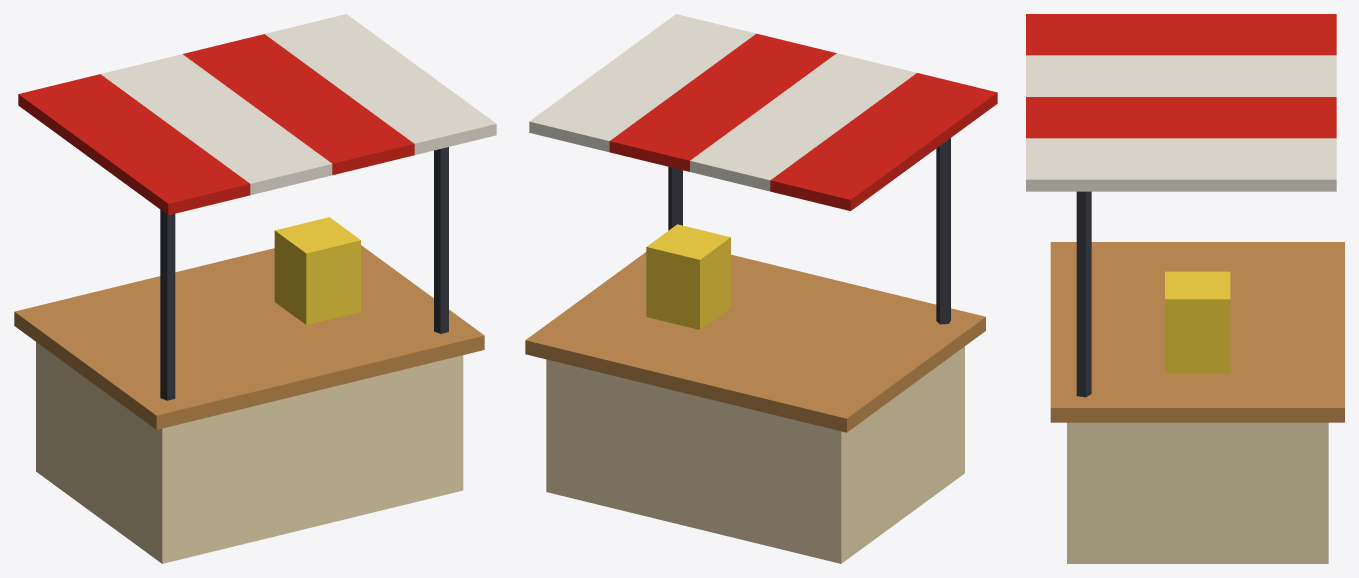
Rendered from food_kiosk.glb.
3 renders of one model, left to right at view 1: azimuth 30°, elevation 25°; view 2: azimuth 150°, elevation 25°; view 3: azimuth 270°, elevation 25°, orthographic. The views are drawn at different scales.
Parts seen in each view (by area): view 1: food_kiosk; view 2: food_kiosk; view 3: food_kiosk.
Part boxes in pixels (x1,y1,x2,y2): food_kiosk: (14, 14, 496, 563); food_kiosk: (525, 14, 997, 563); food_kiosk: (1026, 14, 1344, 563).
Bounding box in the file's own units: 2.4 × 2.64 × 1.95.
